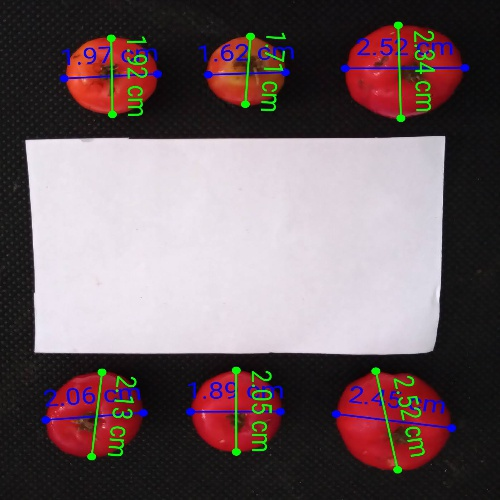acerola: (336, 373, 451, 471), (345, 26, 463, 118), (45, 374, 143, 458), (191, 372, 281, 451), (67, 38, 157, 114), (207, 37, 285, 106)
cartao: (34, 140, 443, 354)
